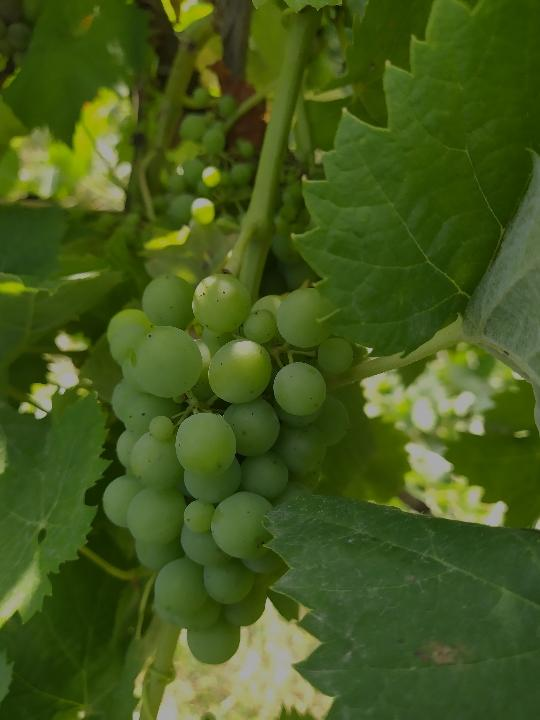grape: (99, 269, 351, 667)
